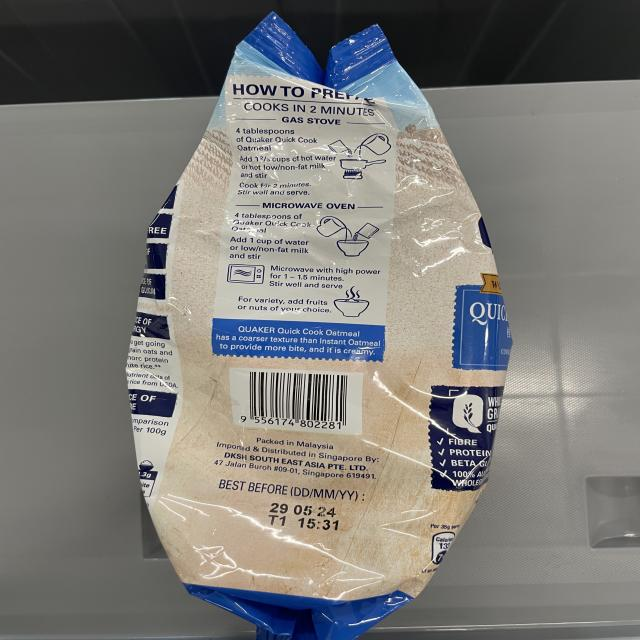object_name: (167, 41, 476, 602)
